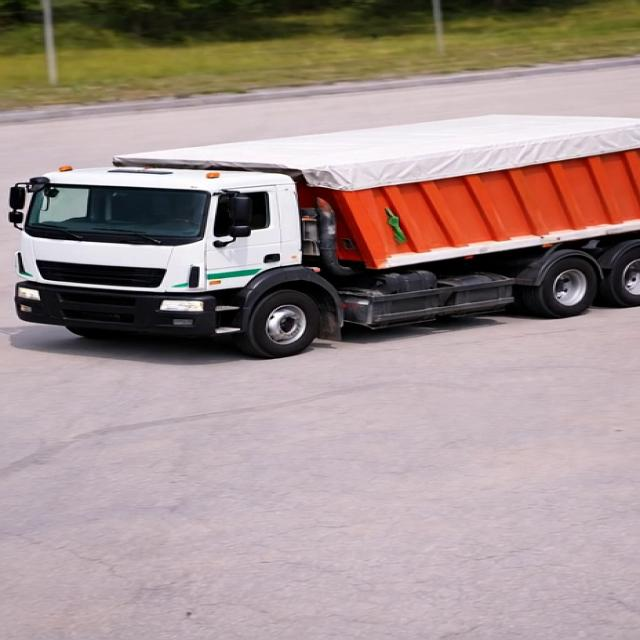Box: (118, 111, 639, 172)
Truck: (0, 74, 639, 364)
